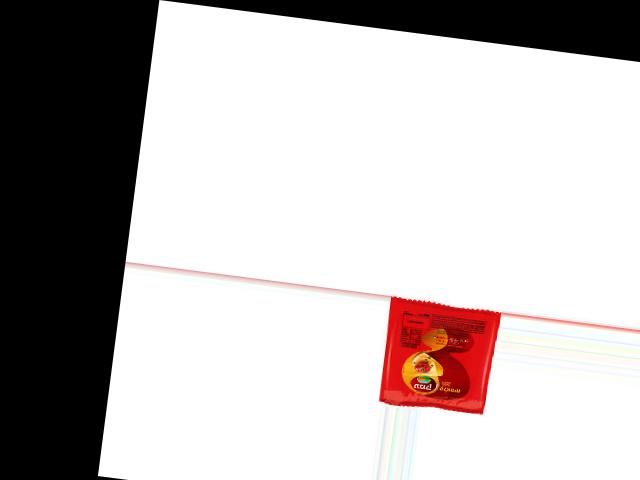cheese: (376, 295, 497, 415)
